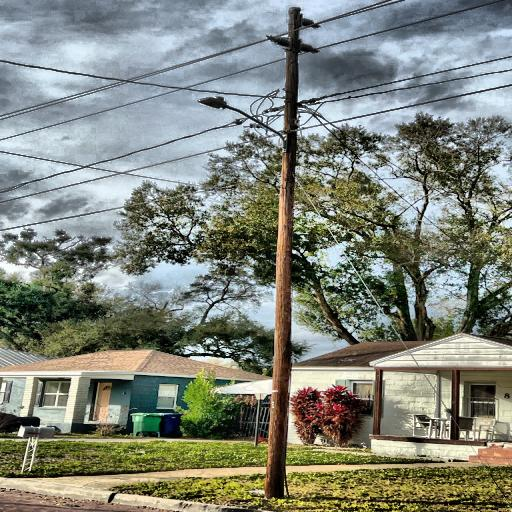pole: (257, 4, 306, 505)
street light: (194, 92, 294, 154)
